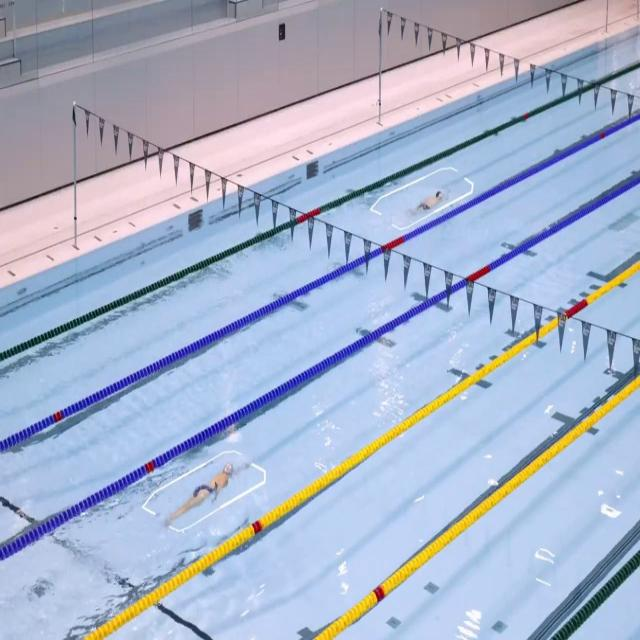Swimming: (166, 461, 233, 525), (416, 190, 443, 212)
